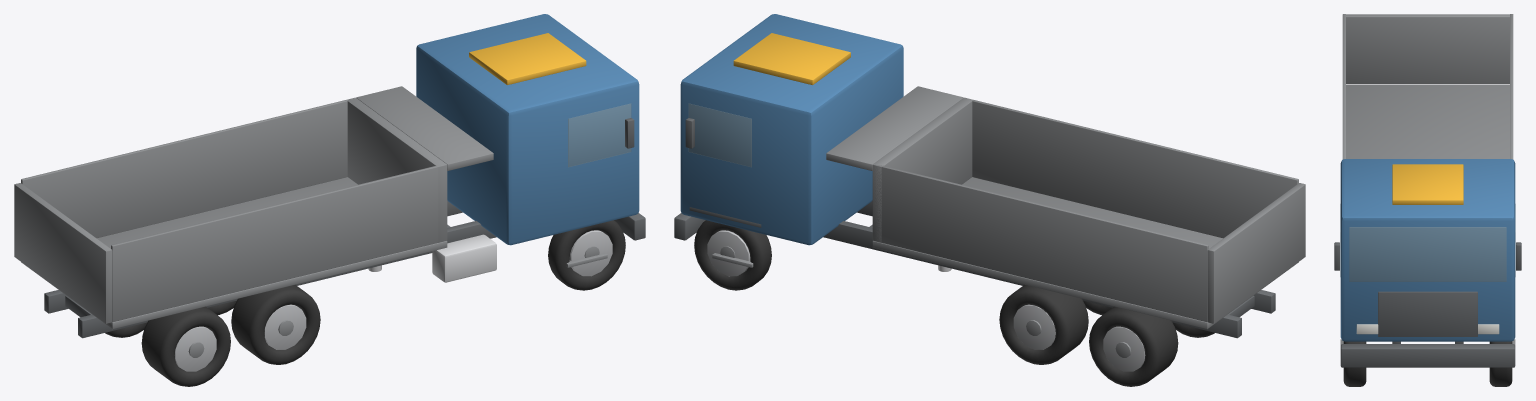
File: EQP-TER-006_anim.glb
3 views of the same model, side by side, from view 1: azimuth 30°, elevation 25°; view 2: azimuth 150°, elevation 25°; view 3: azimuth 270°, elevation 25° (orthographic). The views are drawn at different scales.
Parts seen in each view (by area): view 1: EQP-TER-006_anim1, EQP-TER-006_anim3, EQP-TER-006_anim0; view 2: EQP-TER-006_anim1, EQP-TER-006_anim3, EQP-TER-006_anim0; view 3: EQP-TER-006_anim3, EQP-TER-006_anim1, EQP-TER-006_anim0.
Boxes of the visible parts, bbox=[...] form: EQP-TER-006_anim1: bbox=[21, 86, 493, 328]; EQP-TER-006_anim3: bbox=[44, 14, 645, 386]; EQP-TER-006_anim0: bbox=[14, 183, 112, 323]; EQP-TER-006_anim1: bbox=[826, 86, 1298, 328]; EQP-TER-006_anim3: bbox=[674, 14, 1275, 386]; EQP-TER-006_anim0: bbox=[1207, 183, 1305, 323]; EQP-TER-006_anim3: bbox=[1334, 159, 1521, 386]; EQP-TER-006_anim1: bbox=[1342, 14, 1513, 159]; EQP-TER-006_anim0: bbox=[1346, 14, 1509, 84].
Bounding box in the file's own units: 8.13 × 2.98 × 2.63.
